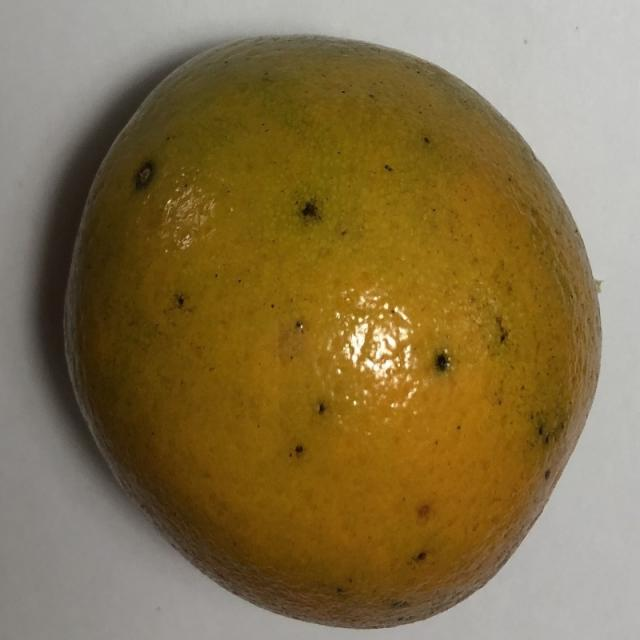blackspot: (37, 30, 612, 638)
